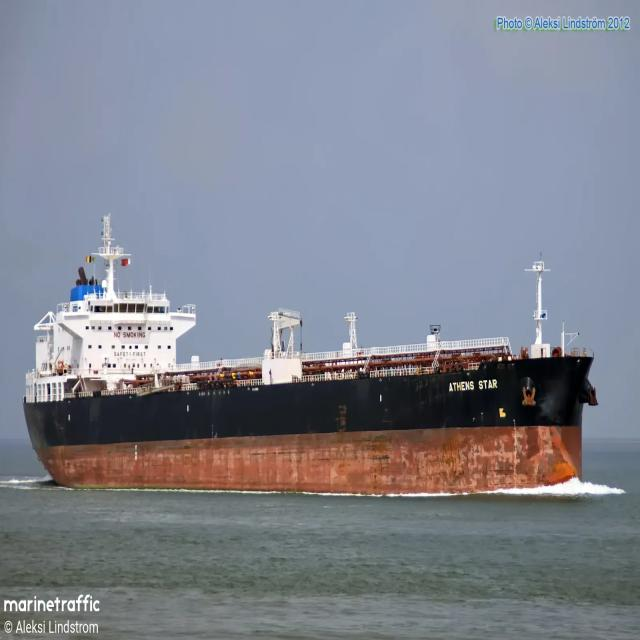Tanker: (23, 215, 597, 494)
